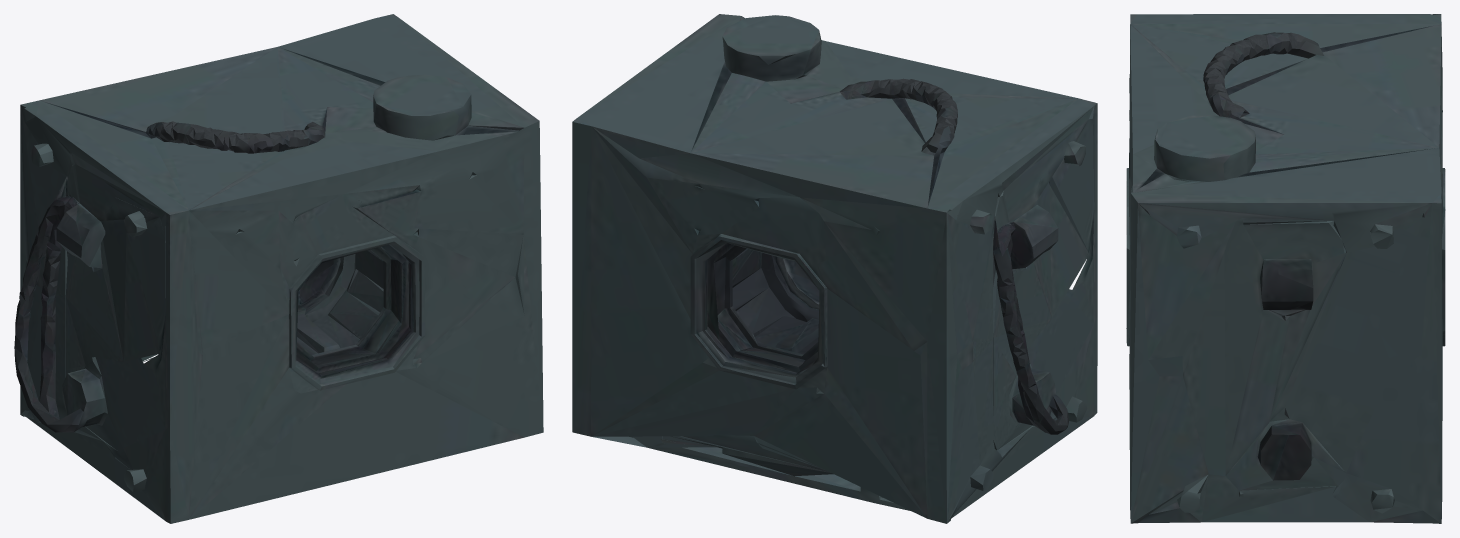
The model's file is spe_batterie.glb.
The picture shows the model from 3 angles, left to right: view 1: azimuth 30°, elevation 25°; view 2: azimuth 150°, elevation 25°; view 3: azimuth 270°, elevation 25°; orthographic projection. The views are drawn at different scales.
Size of the model in its own units: 1.9 by 1.36 by 1.14.
Materials: 1 (1 with a texture image).
